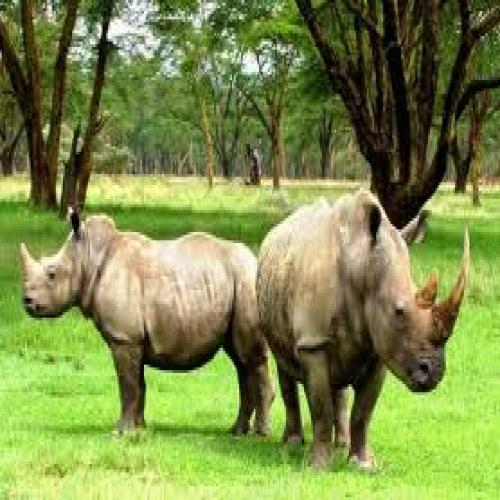rhino-endangered: (259, 198, 470, 476), (22, 216, 273, 436)
